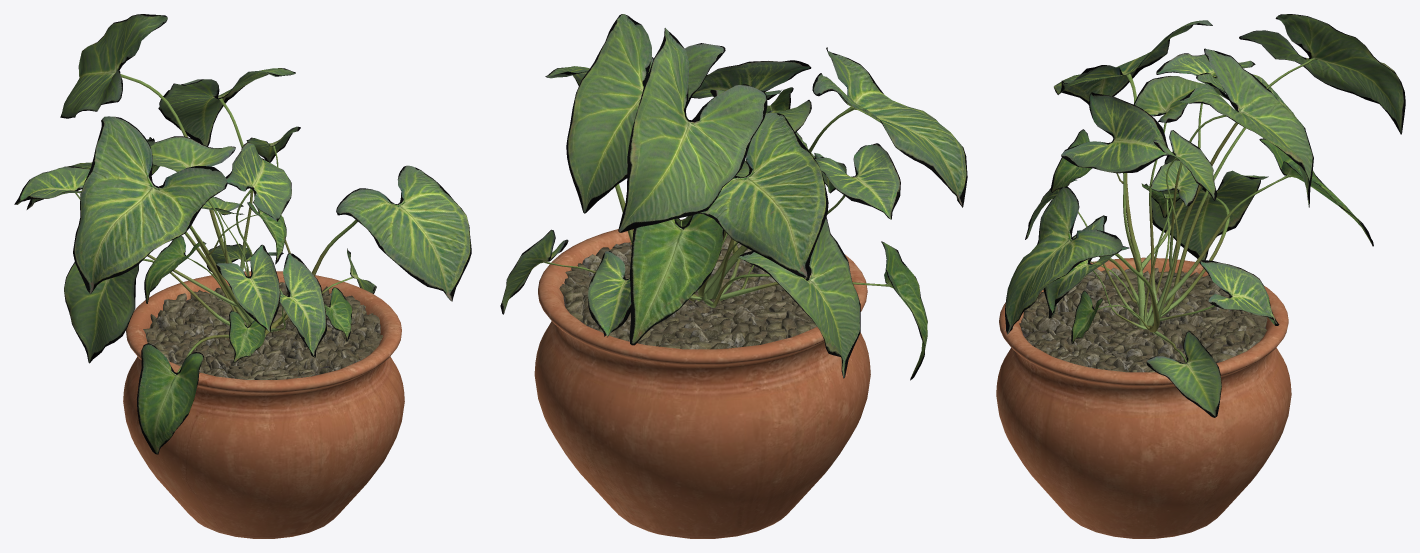
The model's file is potted_plant_02_lod0.glb.
3 views of the same model, side by side, from view 1: azimuth 30°, elevation 25°; view 2: azimuth 150°, elevation 25°; view 3: azimuth 270°, elevation 25° (orthographic). The views are drawn at different scales.
Visible parts, largest first — view 1: potted_plant_02_leaves, potted_plant_02_pot, potted_plant_02_dirt; view 2: potted_plant_02_leaves, potted_plant_02_pot, potted_plant_02_dirt; view 3: potted_plant_02_leaves, potted_plant_02_pot, potted_plant_02_dirt.
Boxes of the visible parts, x1=… form: potted_plant_02_leaves: x1=14, y1=14, x2=471, y2=454; potted_plant_02_pot: x1=123, y1=271, x2=404, y2=538; potted_plant_02_dirt: x1=143, y1=282, x2=383, y2=379; potted_plant_02_leaves: x1=500, y1=14, x2=967, y2=380; potted_plant_02_pot: x1=534, y1=219, x2=870, y2=538; potted_plant_02_dirt: x1=559, y1=235, x2=816, y2=349; potted_plant_02_leaves: x1=1005, y1=14, x2=1405, y2=417; potted_plant_02_pot: x1=996, y1=257, x2=1291, y2=538; potted_plant_02_dirt: x1=1019, y1=267, x2=1267, y2=372.
Size of the model in its own units: 0.7009 by 0.8412 by 0.6574.
2 materials, 2 textured.
